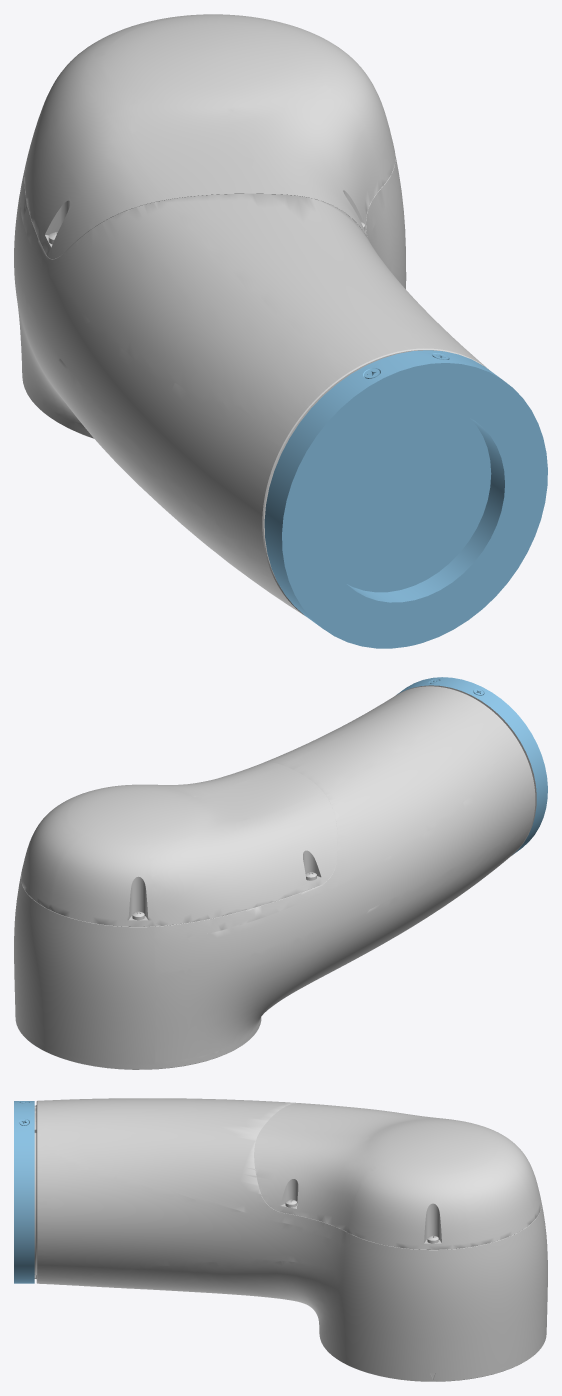
3 views of the same model, one above another, from view 1: azimuth 30°, elevation 25°; view 2: azimuth 150°, elevation 25°; view 3: azimuth 270°, elevation 25° (orthographic). The views are drawn at different scales.
Parts seen in each view (by area): view 1: /Link3/Link3_001-mesh/0, /Link3/Link3_001-mesh/1; view 2: /Link3/Link3_001-mesh/0, /Link3/Link3_001-mesh/1; view 3: /Link3/Link3_001-mesh/0, /Link3/Link3_001-mesh/1.
Boxes of the visible parts, x1,y1,x2,y2 form: /Link3/Link3_001-mesh/0: (14, 14, 488, 616); /Link3/Link3_001-mesh/1: (264, 350, 547, 648); /Link3/Link3_001-mesh/0: (14, 685, 536, 1069); /Link3/Link3_001-mesh/1: (396, 677, 547, 855); /Link3/Link3_001-mesh/0: (34, 1098, 547, 1381); /Link3/Link3_001-mesh/1: (14, 1101, 34, 1283).
Bounding box in the file's own units: 0.1511 × 0.1035 × 0.2587.
